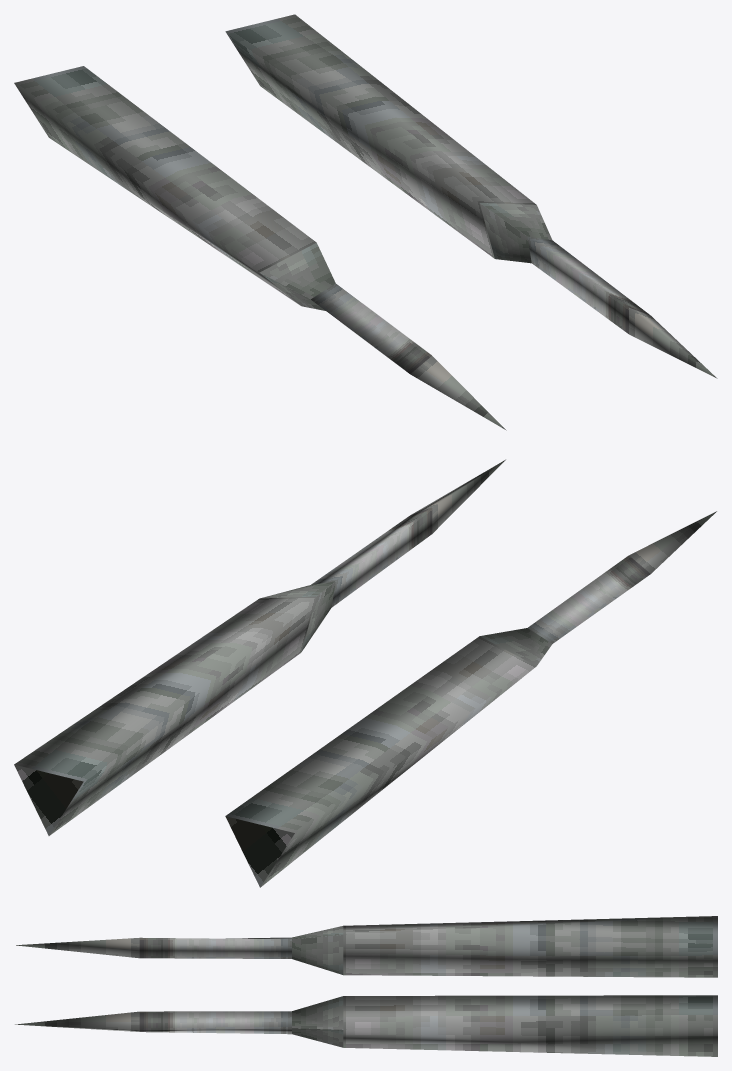
The model's file is bwing_weapon3_s05_l3.fbx.
3 renders of one model, top to bottom at view 1: azimuth 30°, elevation 25°; view 2: azimuth 150°, elevation 25°; view 3: azimuth 270°, elevation 25°, orthographic. The views are drawn at different scales.
Visible parts, largest first — view 1: mesh_node; view 2: mesh_node; view 3: mesh_node.
Part boxes in pixels (x1=…): mesh_node: x1=14, y1=14, x2=717, y2=430; mesh_node: x1=14, y1=459, x2=716, y2=887; mesh_node: x1=15, y1=916, x2=717, y2=1056.
Bounding box in the file's own units: 1.04 × 0.2389 × 2.94.
Materials: 1 (1 with a texture image).
